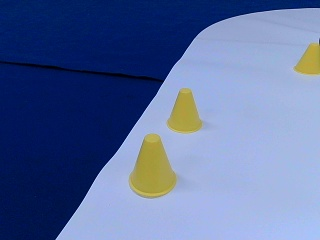cone: (129, 135, 177, 198), (167, 89, 202, 132), (294, 43, 319, 74)
